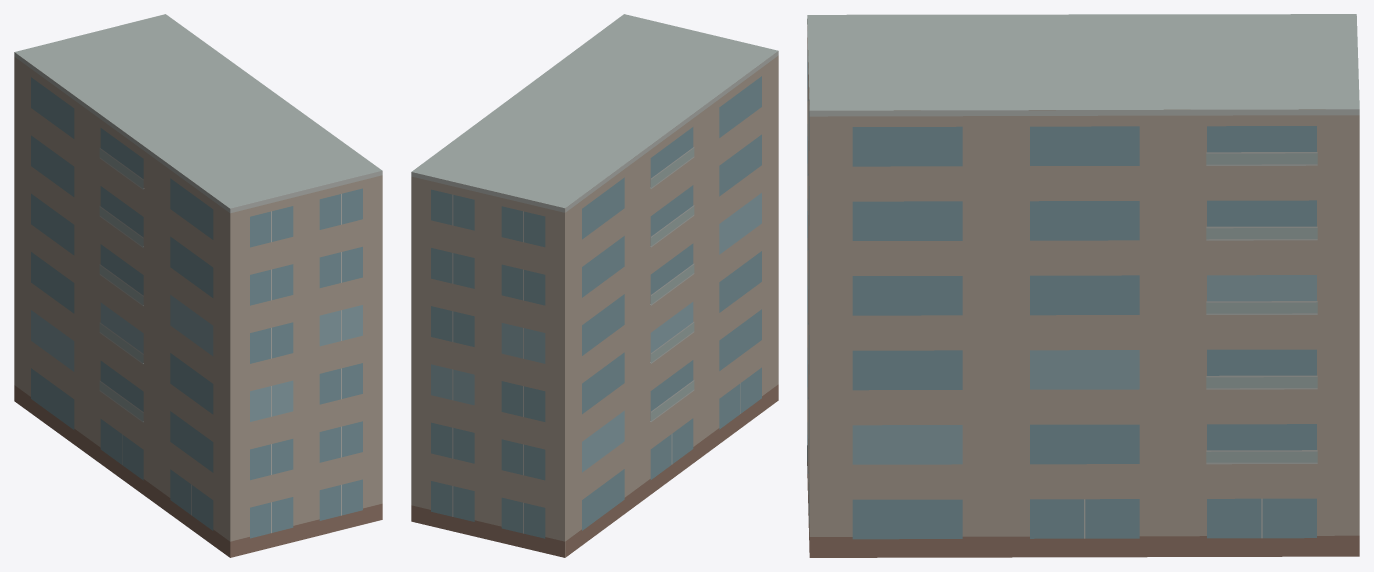
The model's file is survey-upis-32735988.glb.
3 views of the same model, side by side, from view 1: azimuth 30°, elevation 25°; view 2: azimuth 150°, elevation 25°; view 3: azimuth 270°, elevation 25° (orthographic). The views are drawn at different scales.
Visible parts, largest first — view 1: survey-upis-32735988.tmp; view 2: survey-upis-32735988.tmp; view 3: survey-upis-32735988.tmp.
Part boxes in pixels (box(x1,y1,x2,y2)): survey-upis-32735988.tmp: box(14, 14, 382, 557); survey-upis-32735988.tmp: box(411, 14, 778, 557); survey-upis-32735988.tmp: box(807, 14, 1359, 557).
Size of the model in its own units: 8.64 by 18.6 by 20.84.
